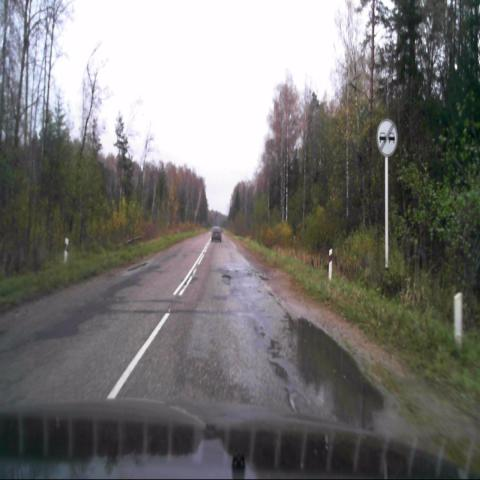3_21: (375, 118, 398, 158)
